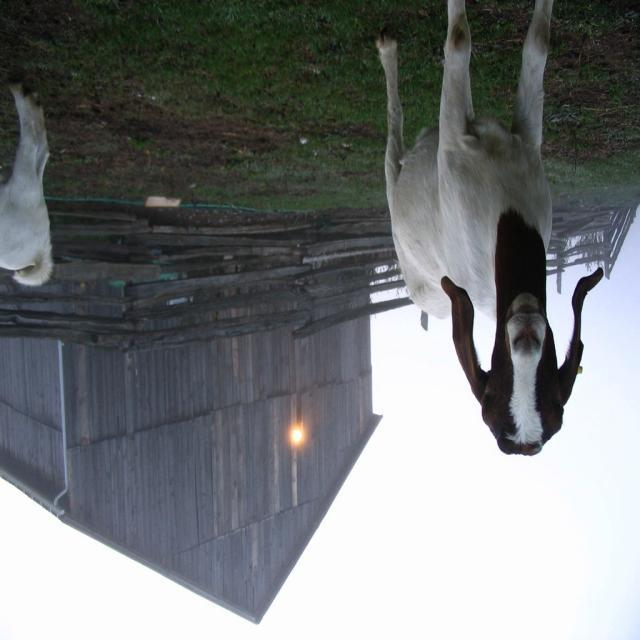Goat: (375, 2, 604, 458), (0, 80, 54, 288)
